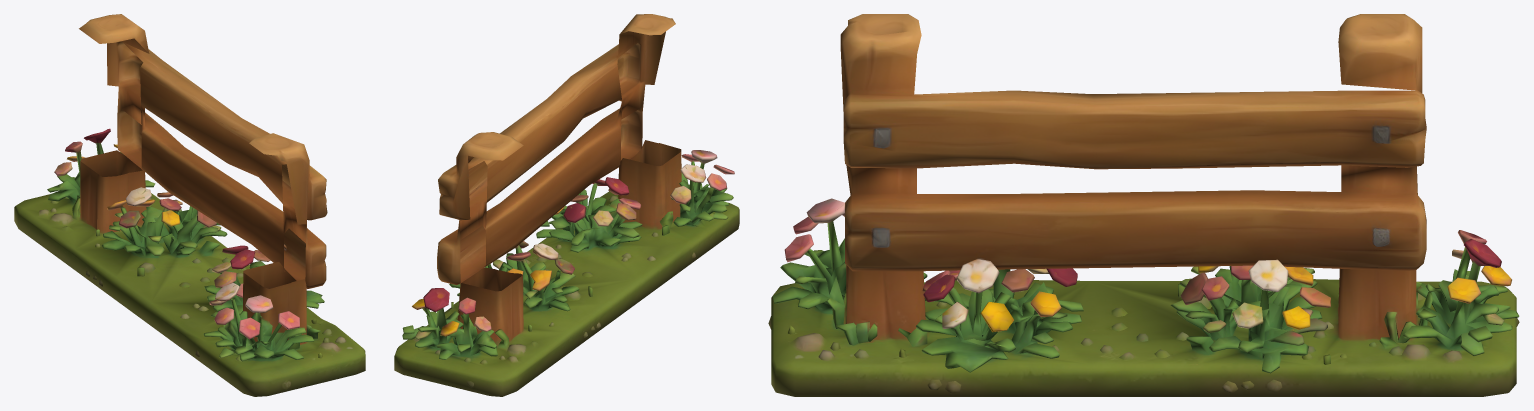
The model's file is tripo_raw.glb.
3 renders of one model, left to right at view 1: azimuth 30°, elevation 25°; view 2: azimuth 150°, elevation 25°; view 3: azimuth 270°, elevation 25°, orthographic. The views are drawn at different scales.
Visible parts, largest first — view 1: tripo_node_8fbbf4bd-db8f-4f2c-9de9-542a188f0aa8; view 2: tripo_node_8fbbf4bd-db8f-4f2c-9de9-542a188f0aa8; view 3: tripo_node_8fbbf4bd-db8f-4f2c-9de9-542a188f0aa8.
Boxes of the visible parts, <box> form: tripo_node_8fbbf4bd-db8f-4f2c-9de9-542a188f0aa8: <box>14,14,365,396</box>; tripo_node_8fbbf4bd-db8f-4f2c-9de9-542a188f0aa8: <box>394,14,739,396</box>; tripo_node_8fbbf4bd-db8f-4f2c-9de9-542a188f0aa8: <box>768,14,1519,396</box>.
Size of the model in its own units: 0.3386 by 0.4814 by 0.998.
Materials: 1 (1 with a texture image).
